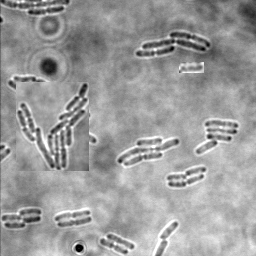Dividing: (167, 175, 204, 189), (99, 238, 128, 255), (54, 209, 90, 222), (56, 217, 92, 228), (27, 7, 64, 17)
Microcolony: (16, 82, 89, 171), (117, 137, 180, 168), (135, 32, 211, 57), (195, 120, 238, 155), (1, 208, 42, 229)
Rod: (106, 233, 135, 251), (157, 222, 178, 240), (179, 62, 204, 73), (184, 167, 206, 177), (166, 174, 187, 183)
